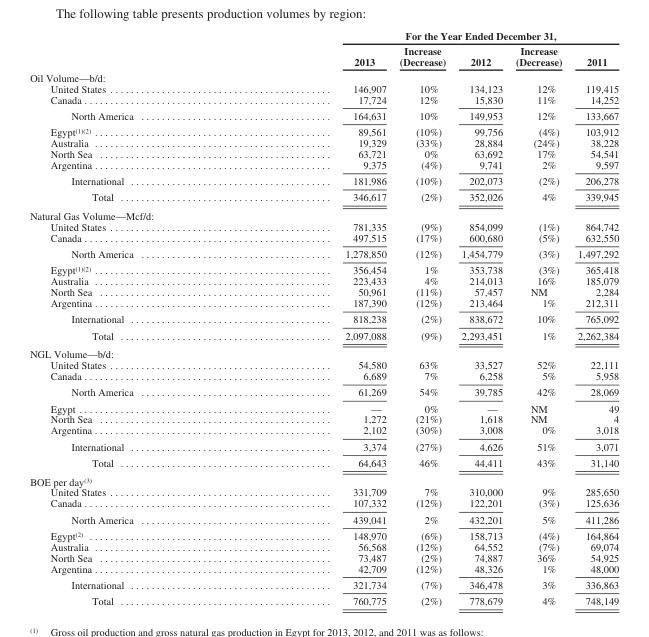table: (29, 29, 618, 606)
table column: (29, 29, 238, 606), (238, 29, 392, 606), (508, 29, 569, 606), (392, 29, 452, 606), (452, 29, 508, 606), (569, 29, 618, 606)
table column header: (29, 29, 618, 69)
table projected row header: (29, 344, 618, 359), (29, 471, 618, 486), (29, 206, 618, 220), (29, 69, 618, 82)
table row: (29, 42, 618, 69), (29, 188, 618, 206), (29, 326, 618, 344), (29, 454, 618, 471), (29, 107, 618, 123), (29, 172, 618, 188), (29, 245, 618, 261), (29, 310, 618, 326), (29, 383, 618, 399), (29, 438, 618, 454), (29, 511, 618, 527), (29, 576, 618, 592), (29, 344, 618, 359), (29, 471, 618, 486), (29, 93, 618, 107), (29, 158, 618, 172), (29, 206, 618, 220), (29, 231, 618, 245), (29, 261, 618, 275), (29, 399, 618, 413), (29, 424, 618, 438), (29, 497, 618, 511), (29, 562, 618, 576), (29, 592, 618, 606), (29, 29, 618, 42), (29, 69, 618, 82), (29, 123, 618, 136), (29, 297, 618, 310), (29, 370, 618, 383), (29, 527, 618, 540), (29, 82, 618, 93), (29, 136, 618, 147), (29, 147, 618, 158), (29, 220, 618, 231), (29, 275, 618, 286), (29, 286, 618, 297), (29, 359, 618, 370), (29, 413, 618, 424), (29, 486, 618, 497), (29, 540, 618, 551), (29, 551, 618, 562)
table spanning cell: (238, 29, 618, 42)
